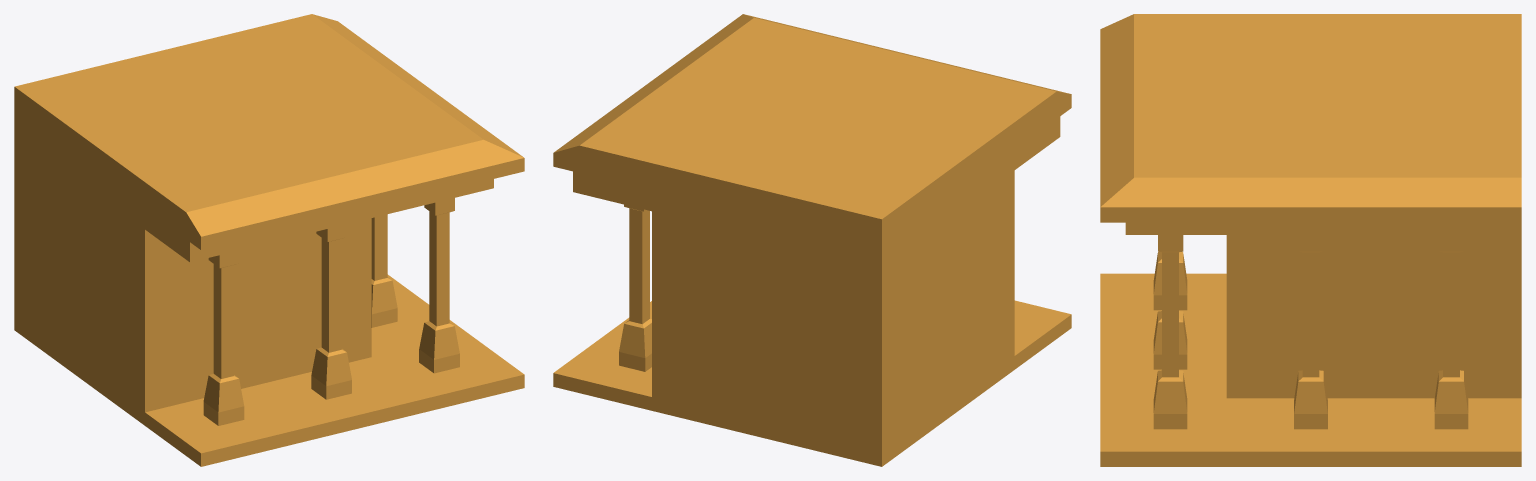
File: india-hindu-wall-interior-edge.glb
3 views of the same model, side by side, from view 1: azimuth 30°, elevation 25°; view 2: azimuth 150°, elevation 25°; view 3: azimuth 270°, elevation 25° (orthographic). The views are drawn at different scales.
Visible parts, largest first — view 1: hindu-wall-interior-edge; view 2: hindu-wall-interior-edge; view 3: hindu-wall-interior-edge.
Part boxes in pixels (x1,y1,x2,y2): hindu-wall-interior-edge: (14,14,524,466); hindu-wall-interior-edge: (553,14,1071,466); hindu-wall-interior-edge: (1100,14,1521,466).
Size of the model in its own units: 5 by 3.6 by 5.
